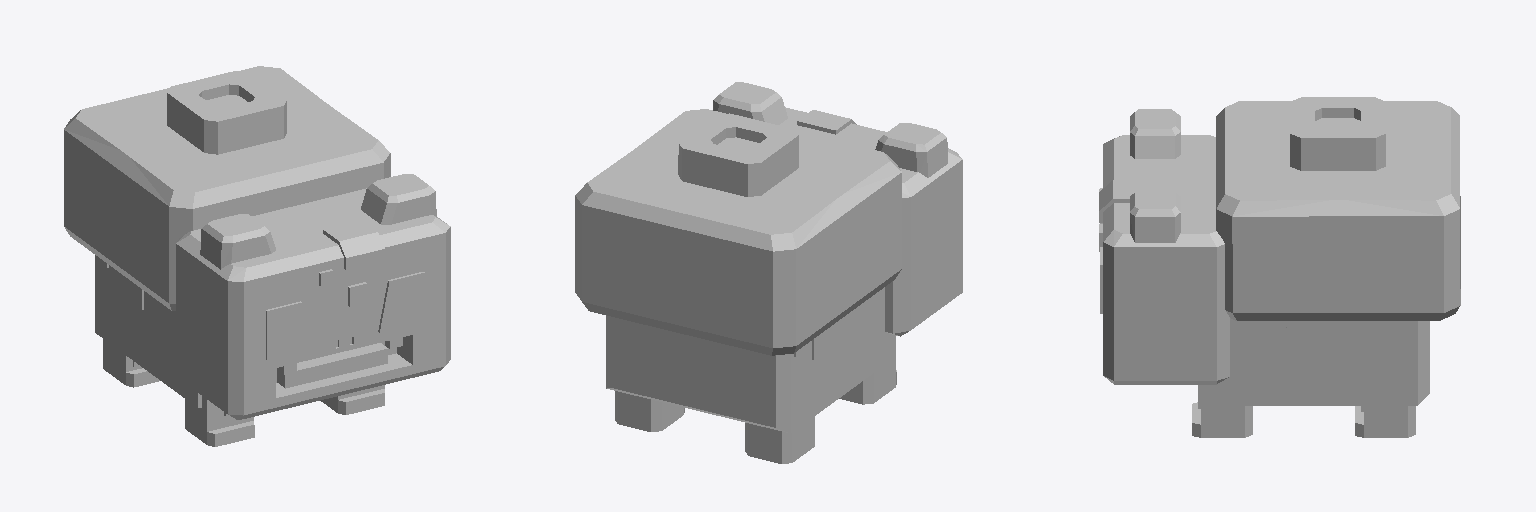
Rendered from 001 - Bulbasaur - Shiny.obj.
3 renders of one model, left to right at view 1: azimuth 30°, elevation 25°; view 2: azimuth 150°, elevation 25°; view 3: azimuth 270°, elevation 25°, orthographic.
Parts seen in each view (by area): view 1: 001 - Bulbasaur - Shiny; view 2: 001 - Bulbasaur - Shiny; view 3: 001 - Bulbasaur - Shiny.
Boxes of the visible parts, <box> form: 001 - Bulbasaur - Shiny: <box>64,66,450,446</box>; 001 - Bulbasaur - Shiny: <box>575,82,962,463</box>; 001 - Bulbasaur - Shiny: <box>1099,97,1460,437</box>.
Bounding box in the file's own units: 1.33 × 1.58 × 1.86.